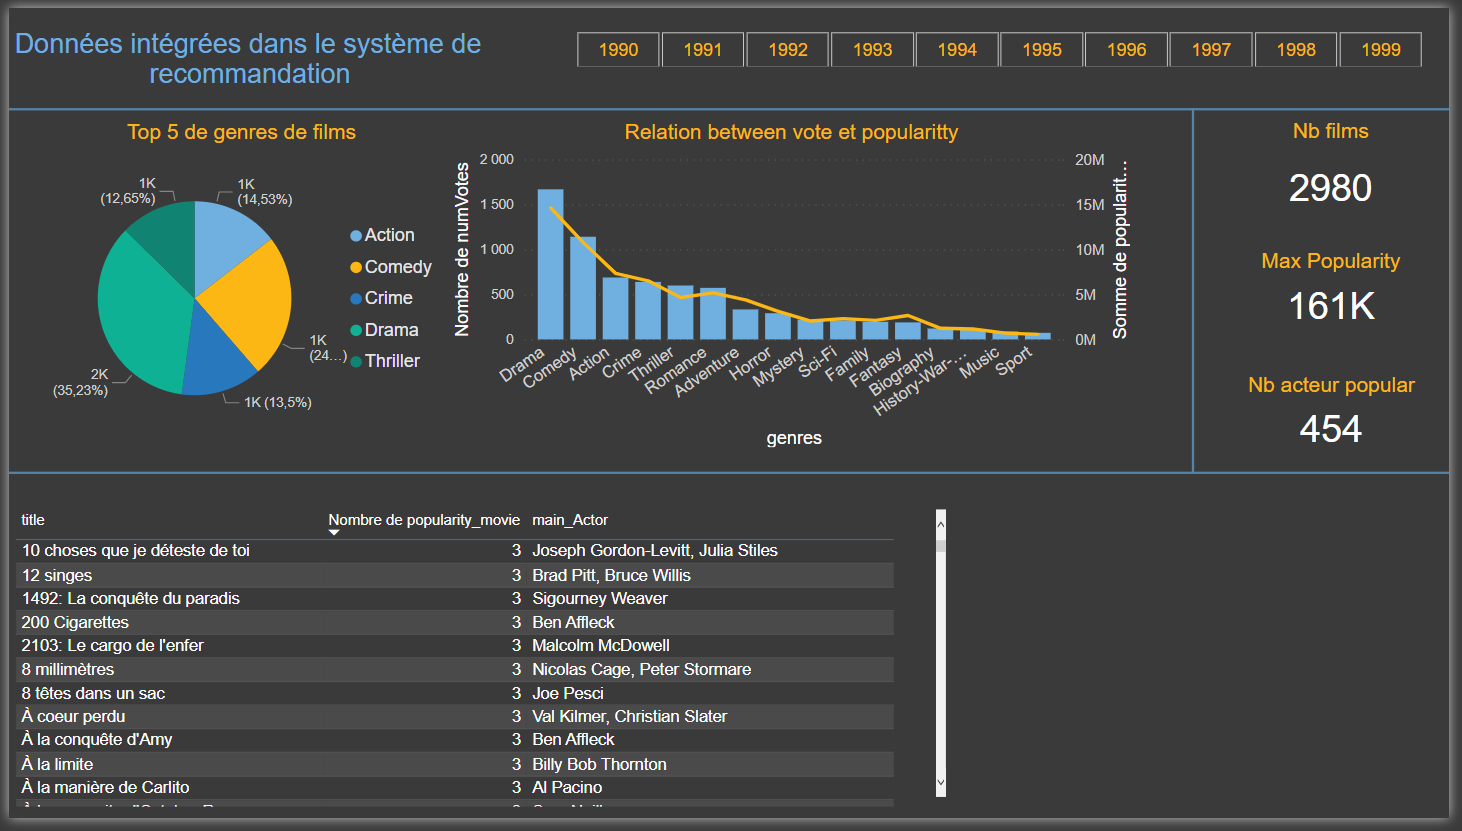

What the dashboard file says about the page in this screenshot:
{"tool":"powerbi","page":{"name":"Page 4","canvas":[1280,720],"ordinal":4},"visuals":[{"type":"pieChart","title":"Top 5 de genres de films","fields":{"Y":["fichier_principal_final.nb_film"],"Series":["fichier_principal_final.genres"]},"box":[23.3,99.9,366.7,295.3],"z":0},{"type":"lineClusteredColumnComboChart","title":"Relation between vote et popularitty","fields":{"Category":["fichier_principal_final.genres"],"Y":["fichier_principal_final.numVotes"],"Y2":["fichier_principal_final.popularity_movie"]},"box":[390,100.3,611,295],"z":1000},{"type":"tableEx","fields":{"Values":["fichier_principal_final.title","fichier_principal_final.popularity_movie","fichier_principal_final.main_Actor"]},"box":[0,441.4,838.2,273.8],"z":2000},{"type":"card","title":"Nb films","fields":{"Values":["fichier_principal_final.nb_film"]},"box":[1069.7,98.9,209.8,98.9],"z":4000},{"type":"card","title":"Max Popularity","fields":{"Values":["fichier_principal_final.max_popularity"]},"box":[1069.7,214.7,209.8,78.4],"z":5000},{"type":"card","title":"Nb acteur popular","fields":{"Values":["fichier_principal_final.acto_dist"]},"box":[1071,324.4,208.6,77.2],"z":6000},{"type":"slicer","fields":{"Values":["fichier_principal_final.startYear"]},"box":[479.1,14,801.2,37.2],"z":7000},{"type":"textbox","box":[0,13.7,428.5,75.5],"z":8000},{"type":"shape","box":[0,70,1280,39.8],"z":9000},{"type":"shape","box":[1034.2,89.3,35.7,324.1],"z":10000},{"type":"shape","box":[0,405.2,1280,15.1],"z":11000}]}

Visuals, with their boxes in screenshot pixels (x1, y1, x2, y2), scaled from the page's 1280x720 canvas onto the 1462x831 screenshot:
"Top 5 de genres de films" pieChart: x1=27, y1=115, x2=445, y2=456
"Relation between vote et popularitty" lineClusteredColumnComboChart: x1=445, y1=116, x2=1143, y2=456
tableEx - fichier_principal_final.title x fichier_principal_final.popularity_movie: x1=0, y1=509, x2=957, y2=825
"Nb films" card: x1=1222, y1=114, x2=1461, y2=228
"Max Popularity" card: x1=1222, y1=248, x2=1461, y2=338
"Nb acteur popular" card: x1=1223, y1=374, x2=1461, y2=464
slicer - fichier_principal_final.startYear: x1=547, y1=16, x2=1461, y2=59
textbox: x1=0, y1=16, x2=489, y2=103
shape: x1=0, y1=81, x2=1461, y2=127
shape: x1=1181, y1=103, x2=1222, y2=477
shape: x1=0, y1=468, x2=1461, y2=485
